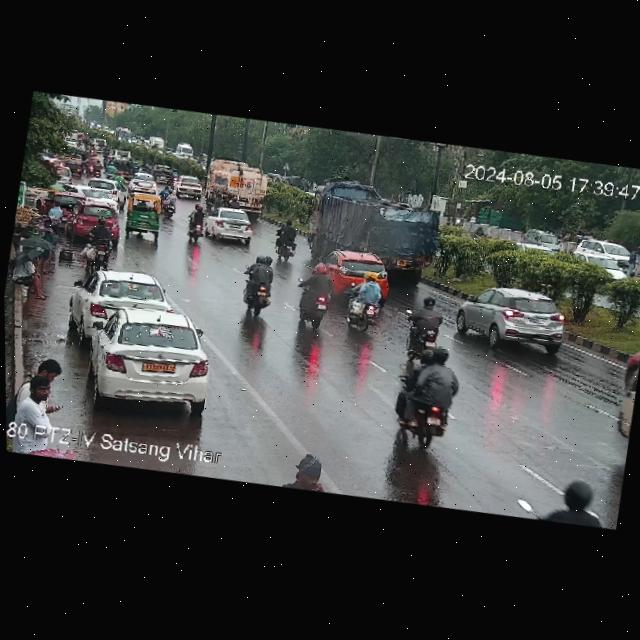car: (65, 296, 223, 420), (454, 280, 576, 358), (71, 264, 170, 337), (200, 205, 260, 247), (121, 193, 171, 242), (68, 201, 123, 243), (54, 181, 122, 213), (577, 235, 631, 271), (171, 175, 209, 201), (127, 174, 165, 197)
motorcycle: (390, 342, 465, 451), (533, 474, 615, 530), (237, 251, 284, 319), (290, 262, 336, 330), (341, 270, 388, 331), (406, 294, 447, 353), (85, 216, 120, 258), (273, 221, 304, 264), (183, 204, 209, 243), (158, 191, 180, 220)
person: (270, 448, 339, 496), (14, 379, 65, 436), (10, 248, 57, 300), (19, 219, 60, 278), (33, 355, 67, 384), (45, 200, 69, 231)
truck: (292, 180, 456, 286), (201, 156, 285, 218), (607, 330, 640, 446)
